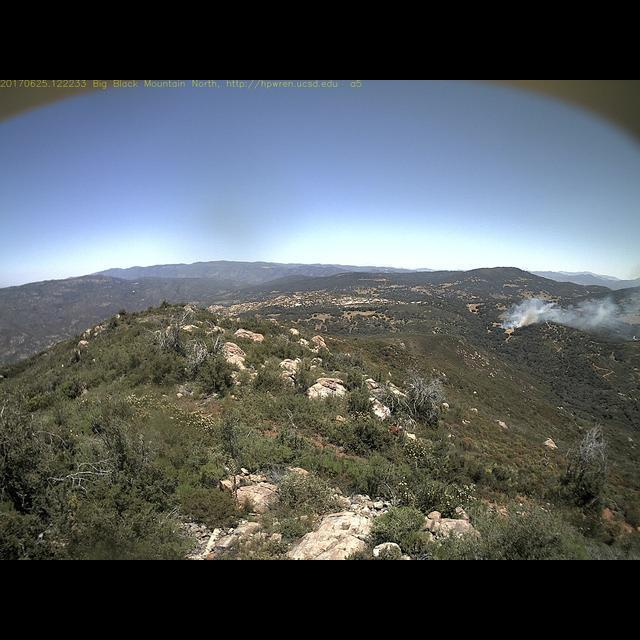Smoke: (497, 283, 637, 341)
